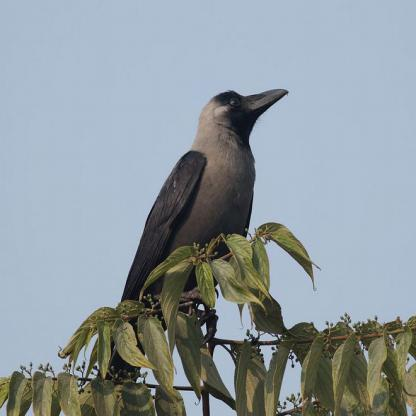Burung: (98, 87, 288, 382)
